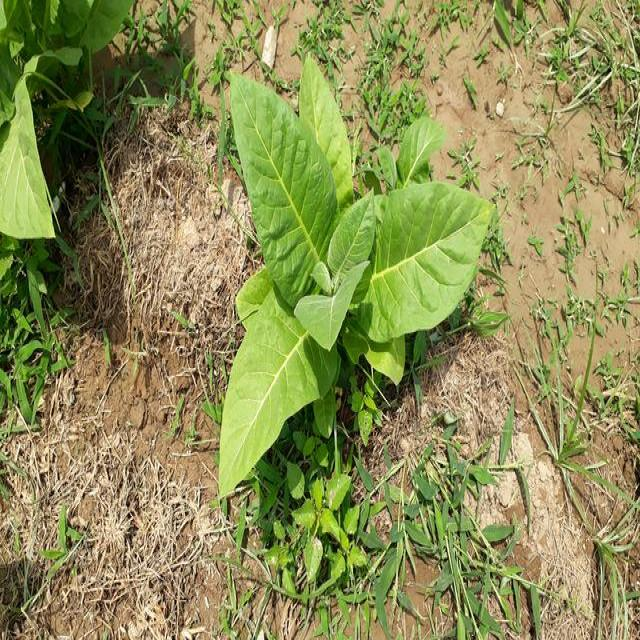crop: (215, 55, 491, 507)
